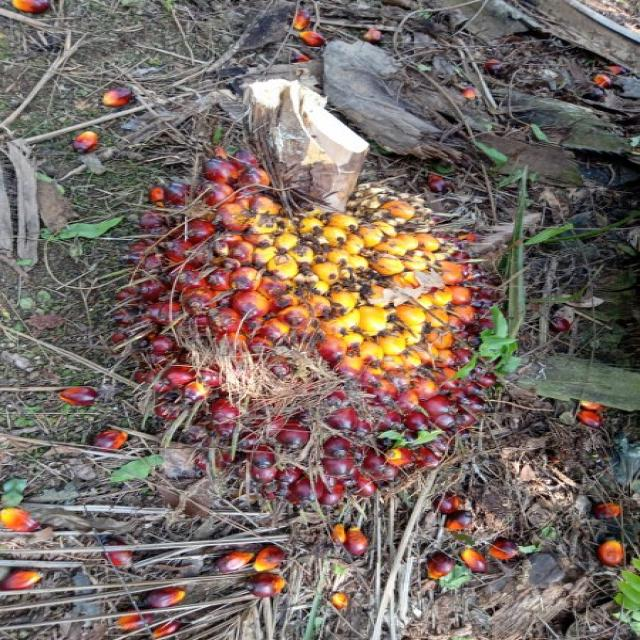fraksi 1: (97, 105, 568, 548)
